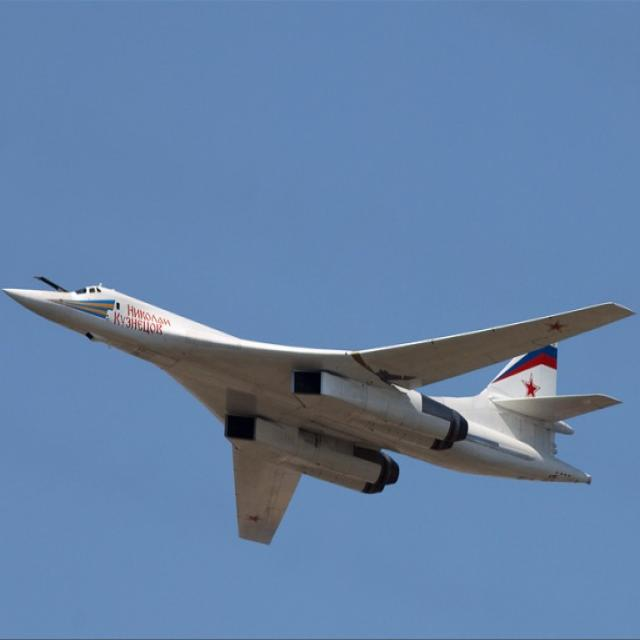Tu160: (0, 209, 640, 581)
